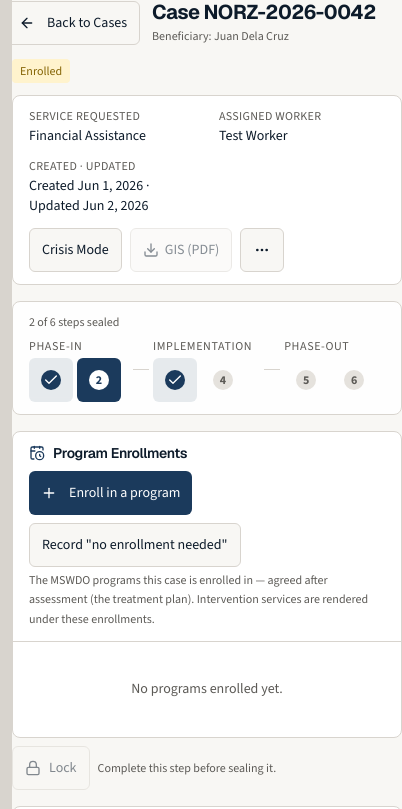
Test: CaseViewPage — a sealed step › keeps the release reachable on a sealed step — the strip is the only way out
This screenshot has width=402, height=809.
Click the button named "Assess & Interview" at [51, 380], box [29, 358, 73, 402]
(page scrolled)
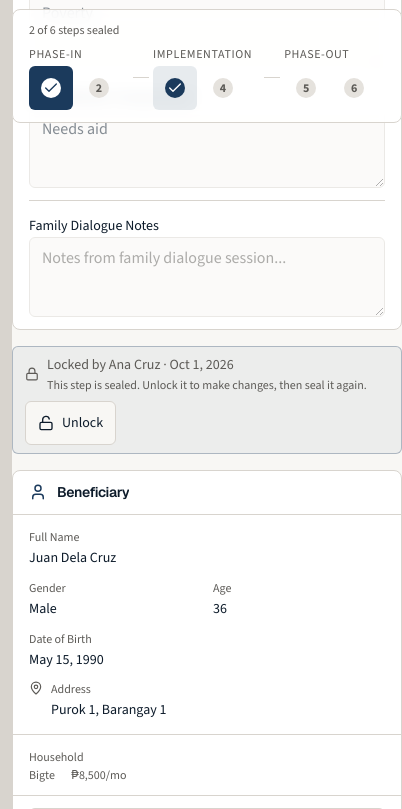
Check: the button "Unlock" is shown, box [25, 401, 116, 445]
